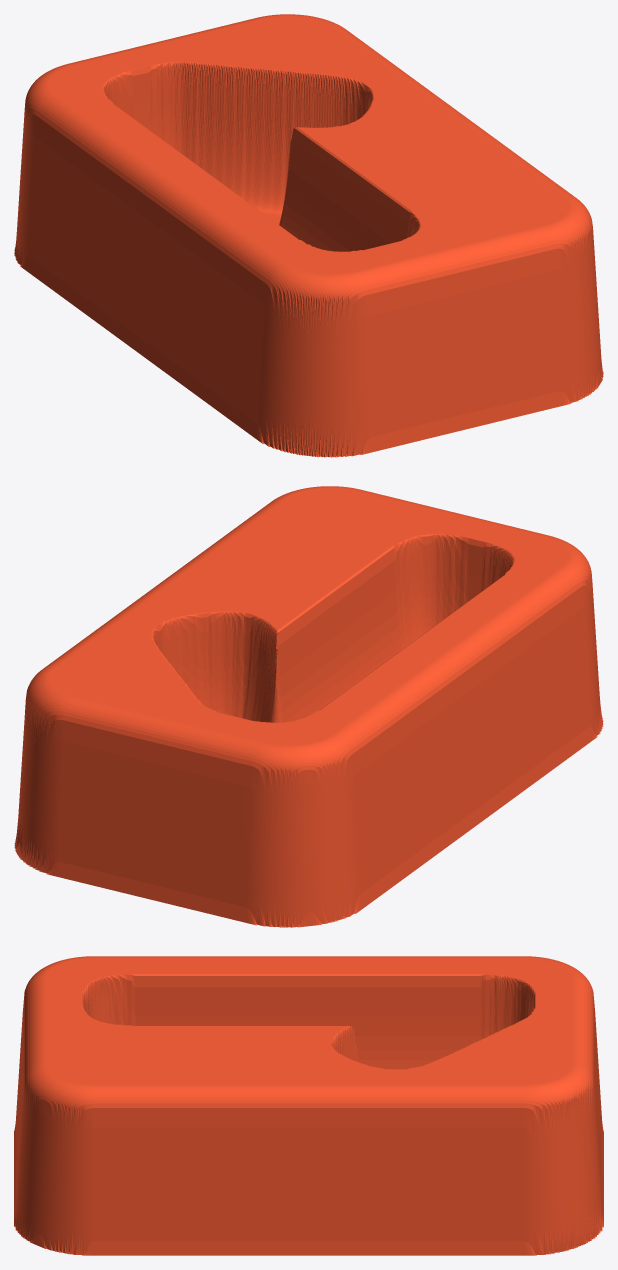
Rendered from mold.glb.
The picture shows the model from 3 angles, top to bottom: view 1: azimuth 30°, elevation 25°; view 2: azimuth 150°, elevation 25°; view 3: azimuth 270°, elevation 25°; orthographic projection. The views are drawn at different scales.
Parts seen in each view (by area): view 1: geometry_0; view 2: geometry_0; view 3: geometry_0.
Boxes of the visible parts, x1,y1,x2,y2 form: geometry_0: [14, 14, 603, 457]; geometry_0: [14, 486, 603, 927]; geometry_0: [14, 956, 603, 1255].
Bounding box in the file's own units: 0.0412 × 0.0197 × 0.067.
